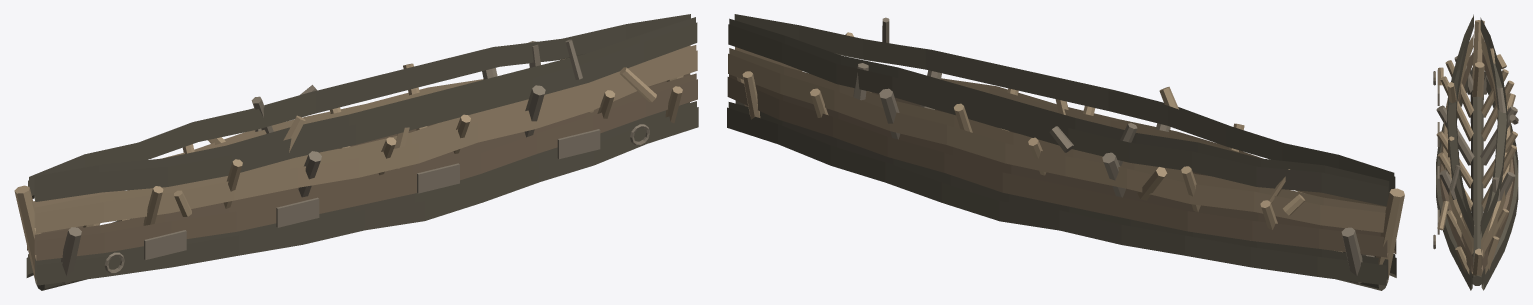
File: shipwreck_hull_a.glb
3 renders of one model, left to right at view 1: azimuth 30°, elevation 25°; view 2: azimuth 150°, elevation 25°; view 3: azimuth 270°, elevation 25°, orthographic. The views are drawn at different scales.
Parts seen in each view (by area): view 1: shipwreck_hull_a LOD0; view 2: shipwreck_hull_a LOD0; view 3: shipwreck_hull_a LOD0.
Part boxes in pixels (x1=…): shipwreck_hull_a LOD0: x1=14, y1=14, x2=698, y2=290; shipwreck_hull_a LOD0: x1=727, y1=14, x2=1404, y2=290; shipwreck_hull_a LOD0: x1=1433, y1=14, x2=1518, y2=290.
Size of what is drawn, in the model's own units: 8.17 by 1.56 by 1.4.
